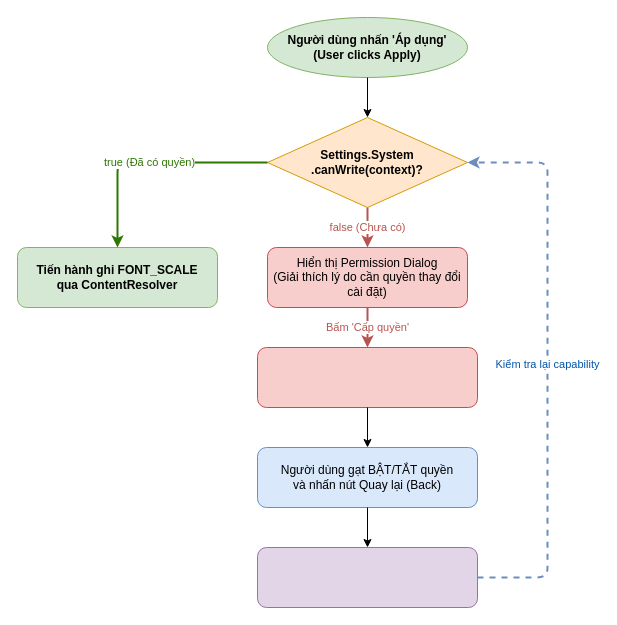
The diagram is 617 pixels wide and 625 high, and some of its shapes have lost their labels. Each missing label, with the box of its shape:
Mở Cài đặt Android: ACTION_MANAGE_WRITE_SETTINGS (Có fallback nếu lỗi): (256, 346, 478, 408)
Vòng đời onResume(): Tự động re-check canWrite(context) cập nhật StateFlow: (256, 546, 478, 608)
